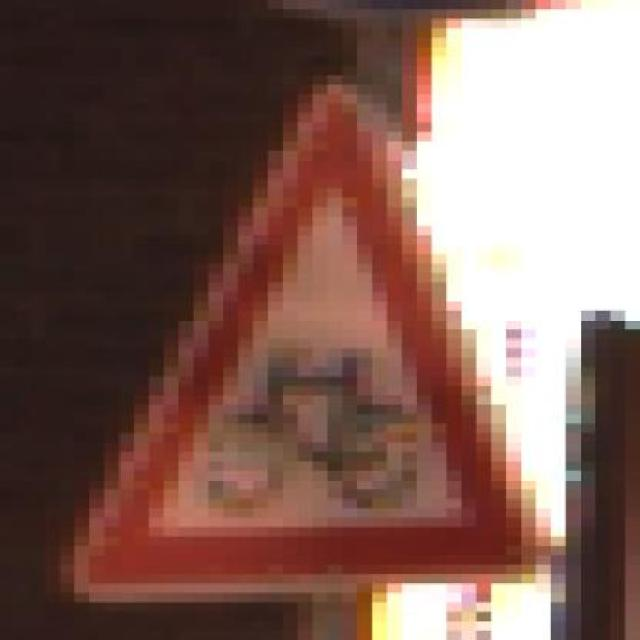CYCLE ROUTE AHEAD WARNING: (48, 65, 554, 593)
